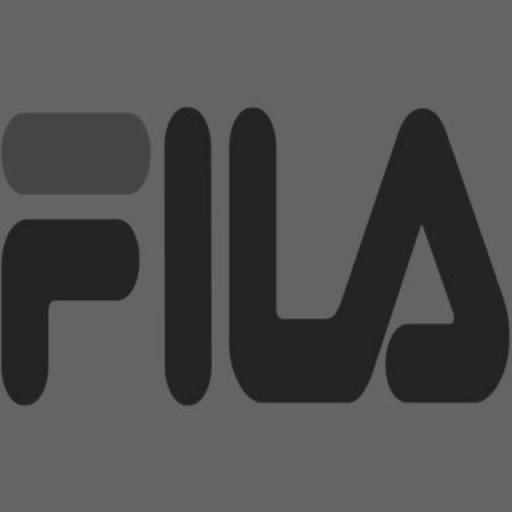Fila: (0, 52, 512, 448)
